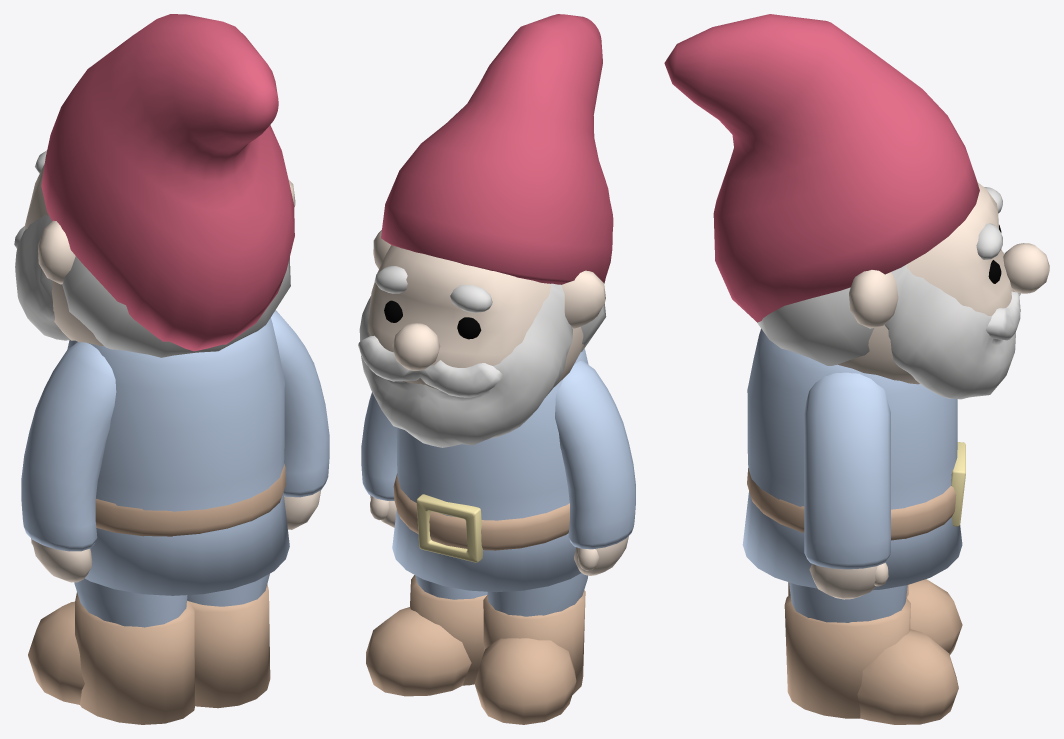
The model's file is GardenGnome.fbx.
3 renders of one model, left to right at view 1: azimuth 30°, elevation 25°; view 2: azimuth 150°, elevation 25°; view 3: azimuth 270°, elevation 25°, orthographic. The views are drawn at different scales.
Visible parts, largest first — view 1: Gnome_001; view 2: Gnome_001; view 3: Gnome_001.
Boxes of the visible parts, x1=… form: Gnome_001: x1=14, y1=14, x2=329, y2=724; Gnome_001: x1=358, y1=14, x2=635, y2=724; Gnome_001: x1=664, y1=14, x2=1049, y2=724.
Size of the model in its own units: 28.31 by 64.5 by 34.29.
